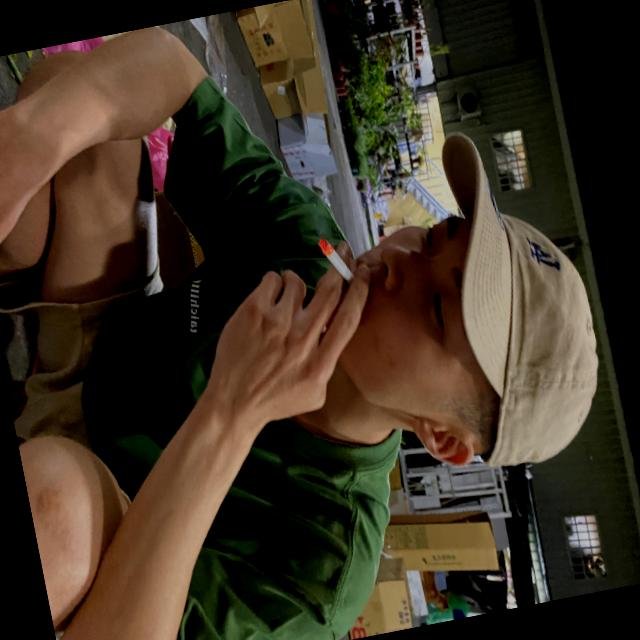smoke: (296, 217, 365, 320)
